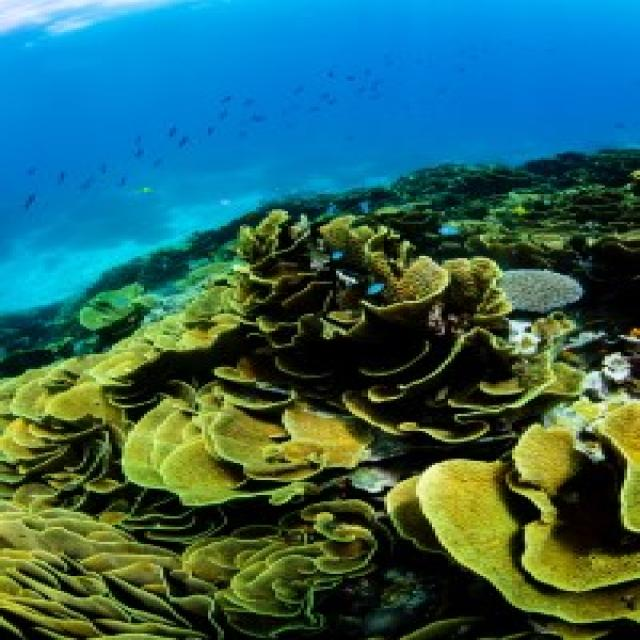Healthy: (1, 210, 638, 639), (388, 400, 638, 639), (1, 500, 206, 637), (126, 389, 379, 500), (180, 500, 388, 624), (1, 421, 187, 541), (1, 321, 177, 419), (507, 272, 583, 312)
